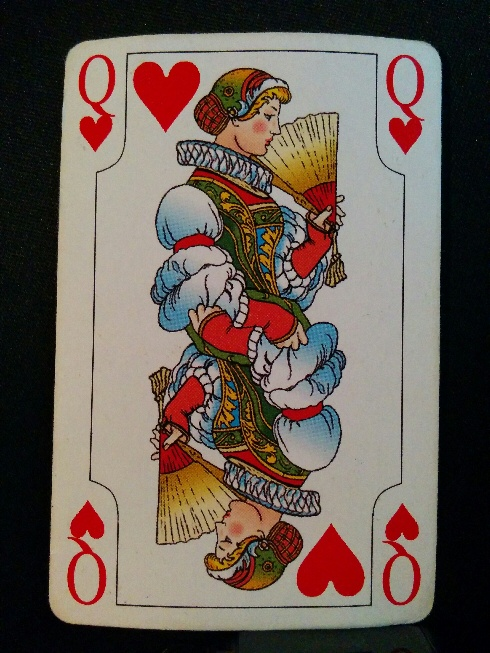Hq: (62, 492, 112, 608), (382, 51, 430, 157), (381, 499, 423, 609), (78, 51, 119, 151)
